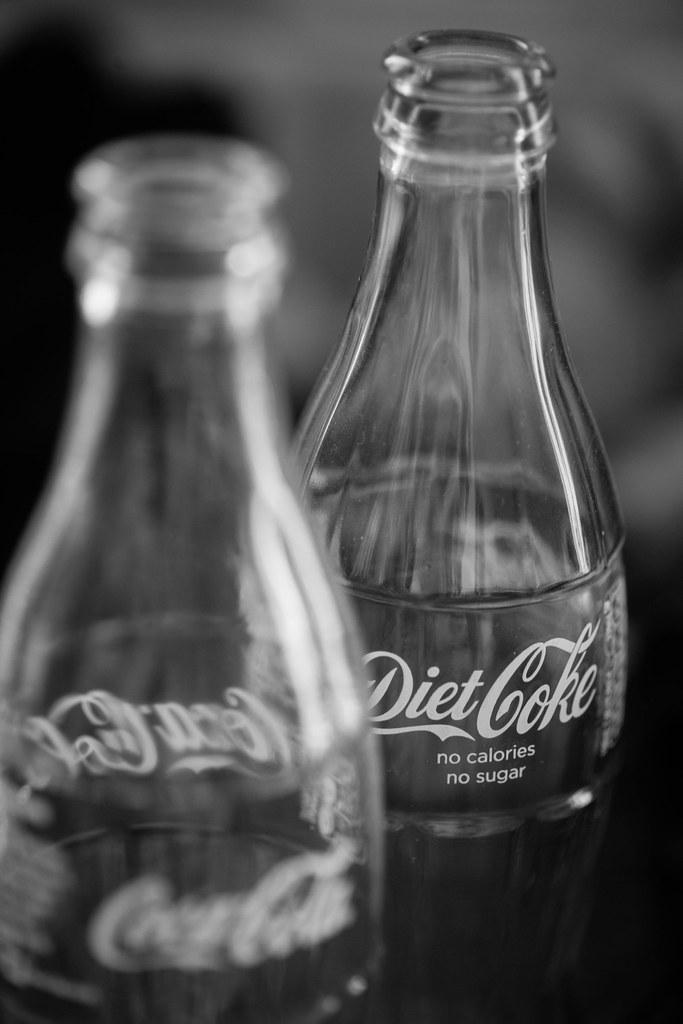bottle: (1, 133, 388, 1023), (285, 27, 631, 1022)
